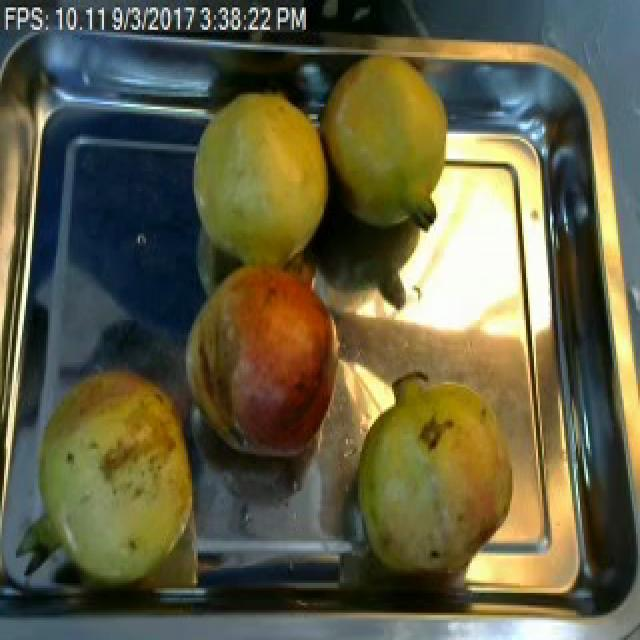fruit: (344, 360, 530, 595), (28, 352, 204, 596), (178, 250, 352, 469), (184, 82, 336, 283), (308, 49, 460, 246)
